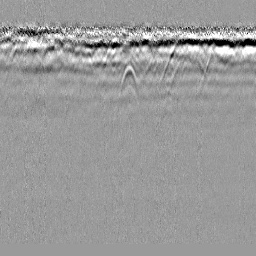cavity: (119, 63, 139, 96)
